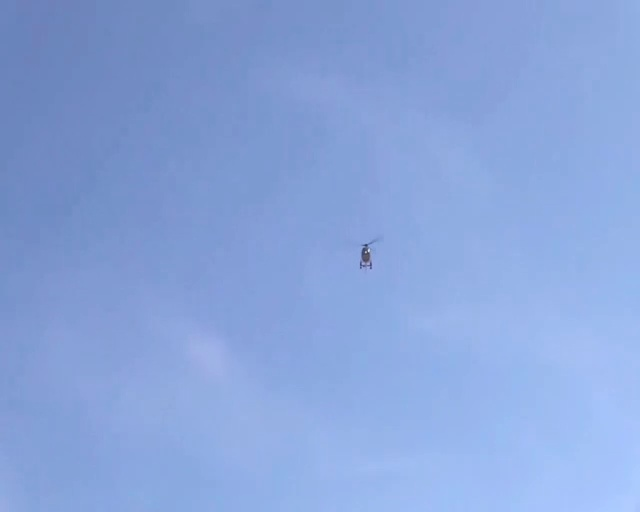HELICOPTER: (357, 235, 383, 269)
